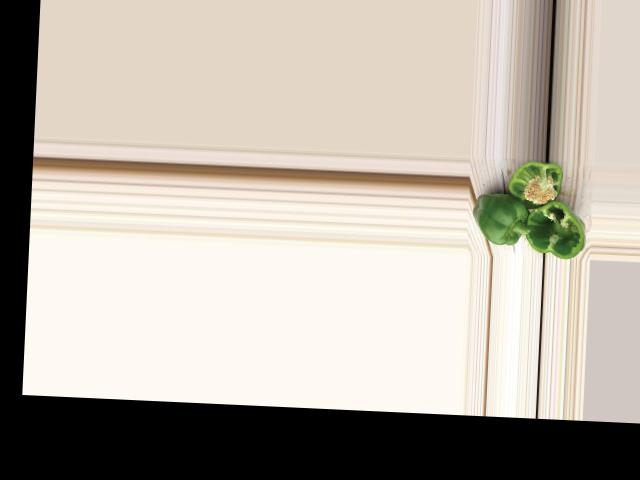bell_pepper: (503, 160, 574, 210)
